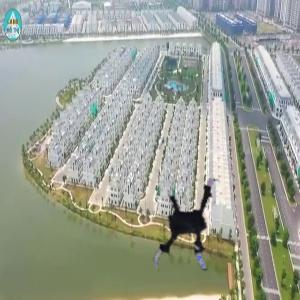drone: (138, 176, 251, 289)
